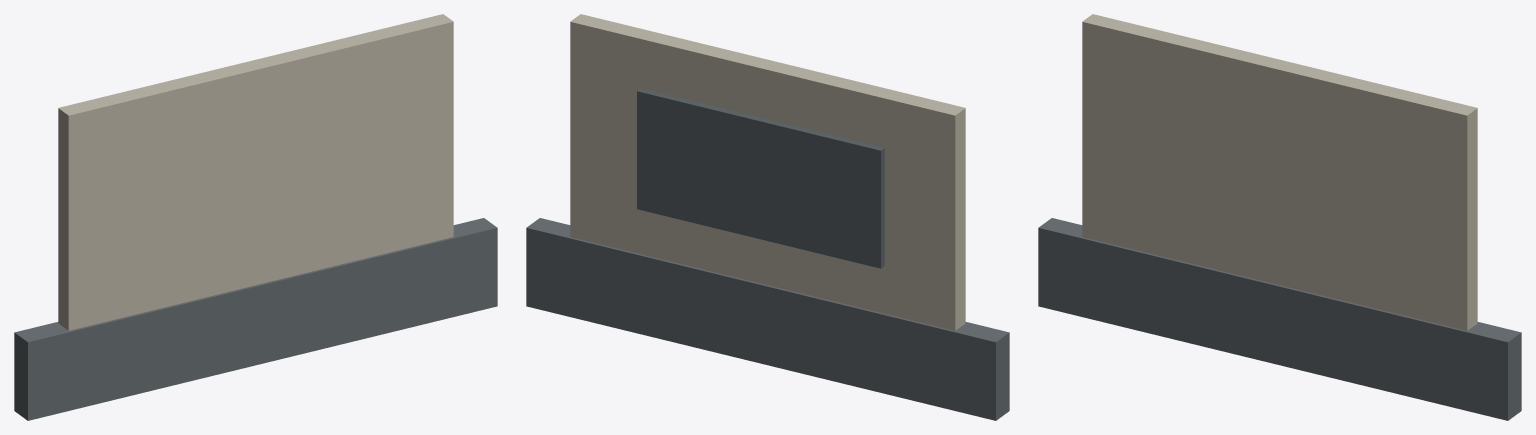
File: iz3_school_board_01.glb
The picture shows the model from 3 angles, left to right: view 1: azimuth 30°, elevation 25°; view 2: azimuth 150°, elevation 25°; view 3: azimuth 330°, elevation 25°; orthographic projection.
Visible parts, largest first — view 1: cabinet, base; view 2: cabinet, base, panel; view 3: cabinet, base.
Part boxes in pixels (x1,y1,x2,y2): cabinet: (58, 14, 453, 330); base: (14, 218, 497, 420); cabinet: (570, 14, 965, 330); base: (526, 218, 1009, 420); panel: (637, 88, 884, 268); cabinet: (1082, 14, 1477, 330); base: (1038, 218, 1521, 420).
Bounding box in the file's own units: 2 × 1.2 × 0.116.
